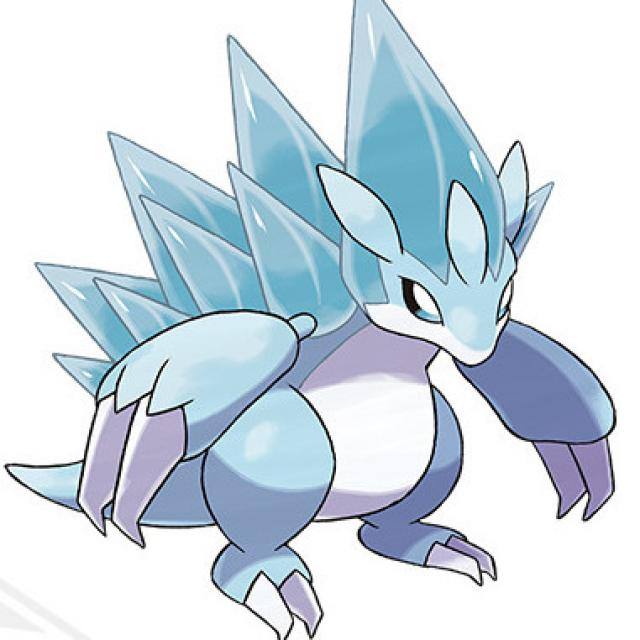Alolan: (71, 29, 559, 607)
